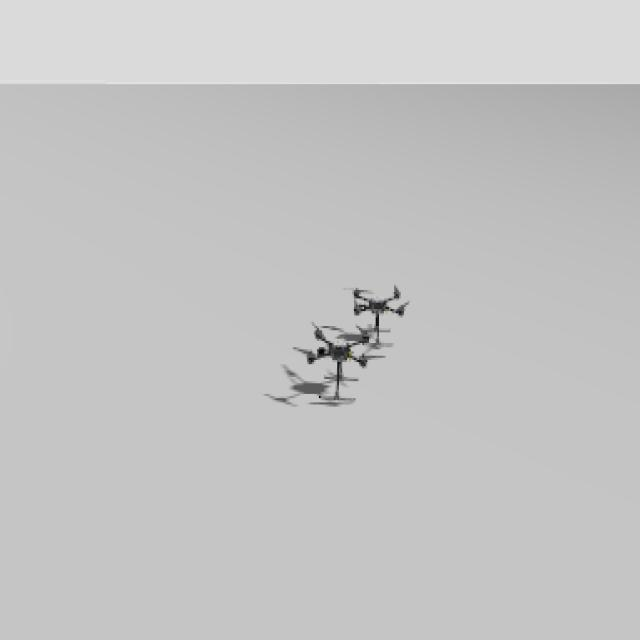drone: (294, 323, 375, 407), (347, 281, 412, 338)
